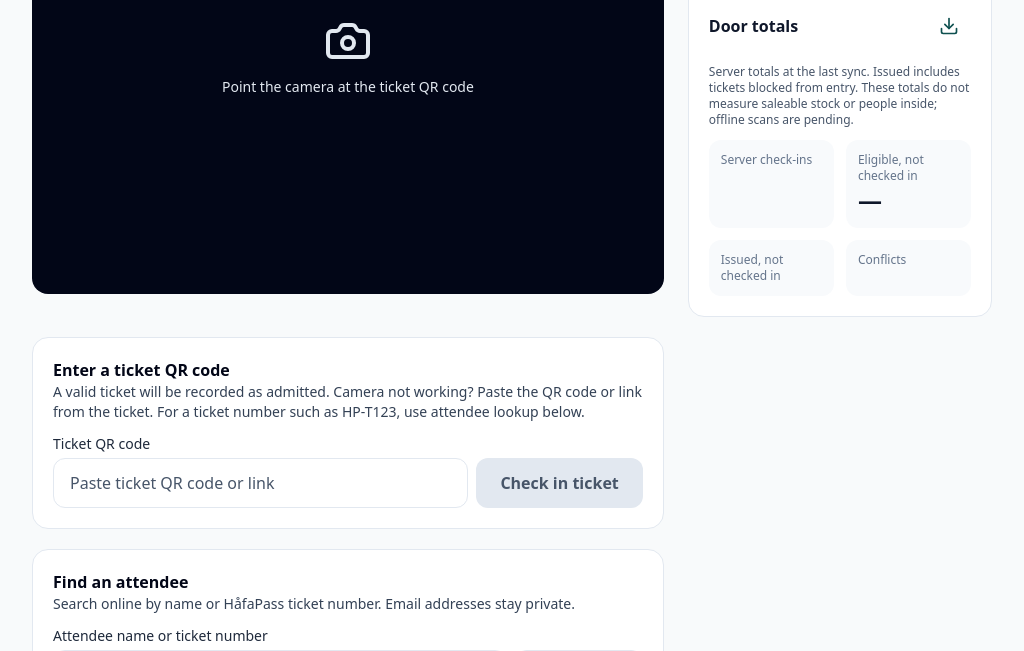
scanner recovery and camera ownership › keeps the admission verdict prominent while scan timing is secondary
This screenshot has width=1024, height=651.
(page scrolled)
Type "unrecognized-synthetic-code" into the field labelled "Ticket QR code". click: (261,483)
box: [53,458,468,508]
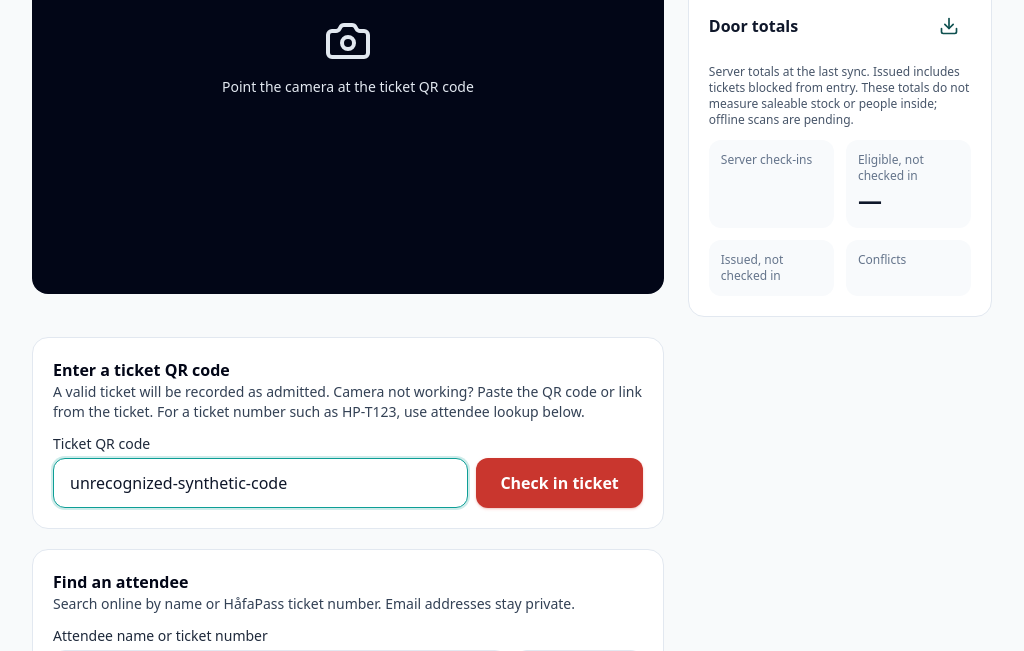
Click the button "Check in ticket". click: (560,483)
box: [476,458,643,508]
(page scrolled)
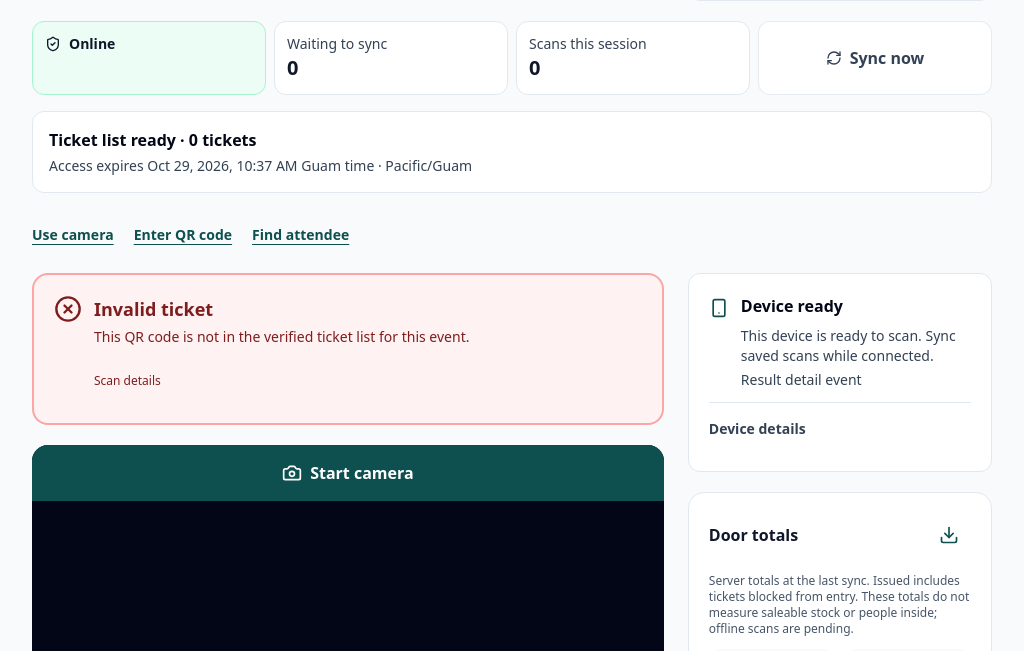
Click the heading "Scan details". click: (127,380)
box: [94,372,161,389]
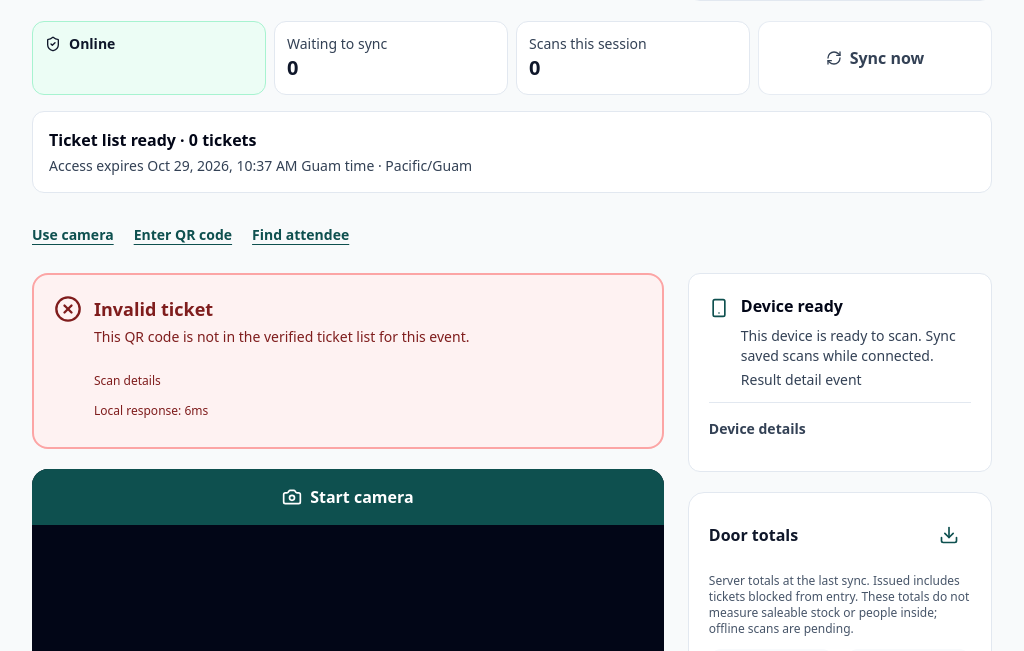
Now the text "Local response: 6ms" is shown, box [94,402,208,419]
